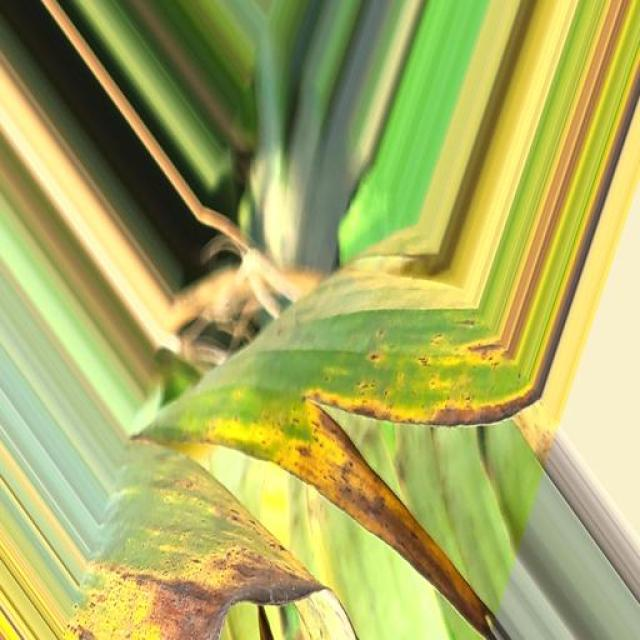Early_rust: (76, 211, 546, 640)
